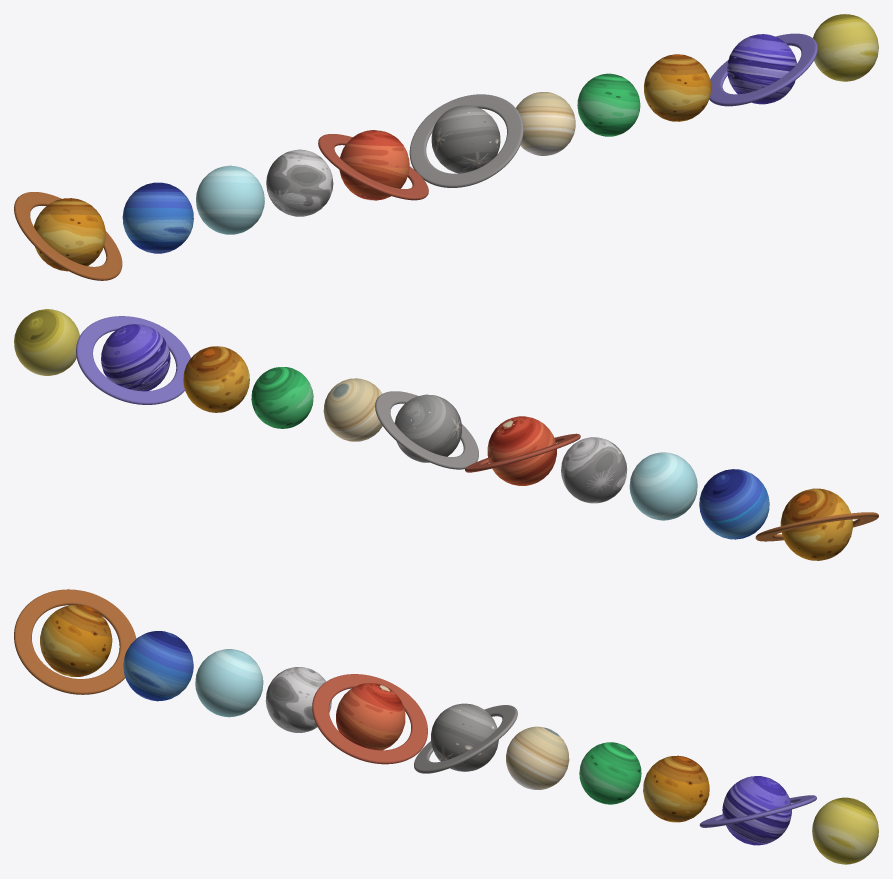
File: planet.glb
3 views of the same model, one above another, from view 1: azimuth 30°, elevation 25°; view 2: azimuth 150°, elevation 25°; view 3: azimuth 330°, elevation 25° (orthographic).
Parts seen in each view (by area): view 1: lg, g, pu, re, bl, sb, br, wh2, ye, gr, wh; view 2: pu, lg, g, re, bl, sb, br, ye, wh2, gr, wh; view 3: g, re, lg, pu, bl, sb, ye, br, wh, gr, wh2.
Part boxes in pixels (bbox=[...]): lg: bbox=[409, 94, 523, 187]; g: bbox=[14, 192, 122, 280]; pu: bbox=[709, 33, 817, 106]; re: bbox=[318, 130, 428, 200]; bl: bbox=[122, 182, 193, 253]; sb: bbox=[196, 165, 264, 234]; br: bbox=[644, 54, 711, 121]; wh2: bbox=[266, 149, 333, 216]; ye: bbox=[813, 14, 878, 81]; gr: bbox=[577, 73, 640, 136]; wh: bbox=[516, 92, 575, 155]; pu: bbox=[76, 316, 190, 404]; lg: bbox=[375, 391, 478, 469]; g: bbox=[755, 488, 878, 560]; re: bbox=[465, 416, 580, 485]; bl: bbox=[699, 469, 769, 539]; sb: bbox=[629, 452, 697, 520]; br: bbox=[183, 346, 249, 412]; ye: bbox=[14, 309, 79, 375]; wh2: bbox=[561, 437, 627, 503]; gr: bbox=[251, 367, 313, 428]; wh: bbox=[323, 378, 382, 441]; g: bbox=[14, 589, 136, 694]; re: bbox=[312, 674, 427, 764]; lg: bbox=[414, 703, 517, 773]; pu: bbox=[699, 776, 816, 845]; bl: bbox=[123, 631, 193, 701]; sb: bbox=[195, 649, 263, 717]; ye: bbox=[812, 797, 878, 864]; br: bbox=[643, 755, 709, 822]; wh: bbox=[506, 726, 569, 789]; gr: bbox=[579, 742, 641, 804]; wh2: bbox=[265, 667, 331, 732].
Bounding box in the file's own units: 13.25 × 1 × 1.7.
14 materials, 10 textured.
